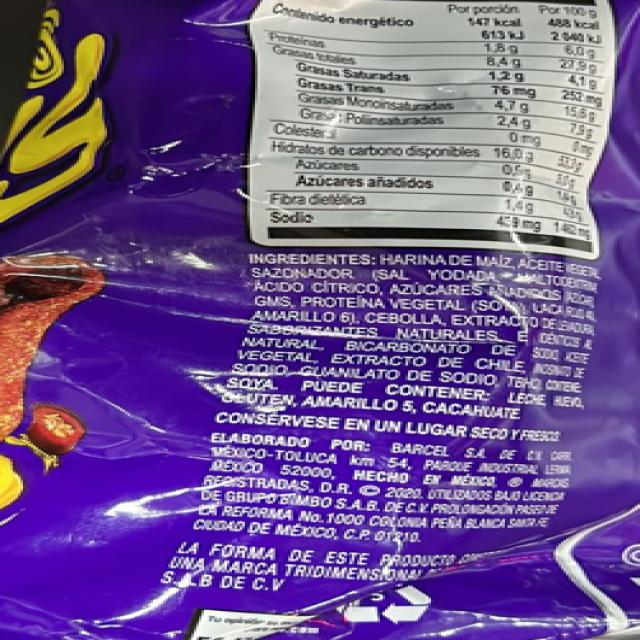productoAtras: (41, 0, 640, 640)
